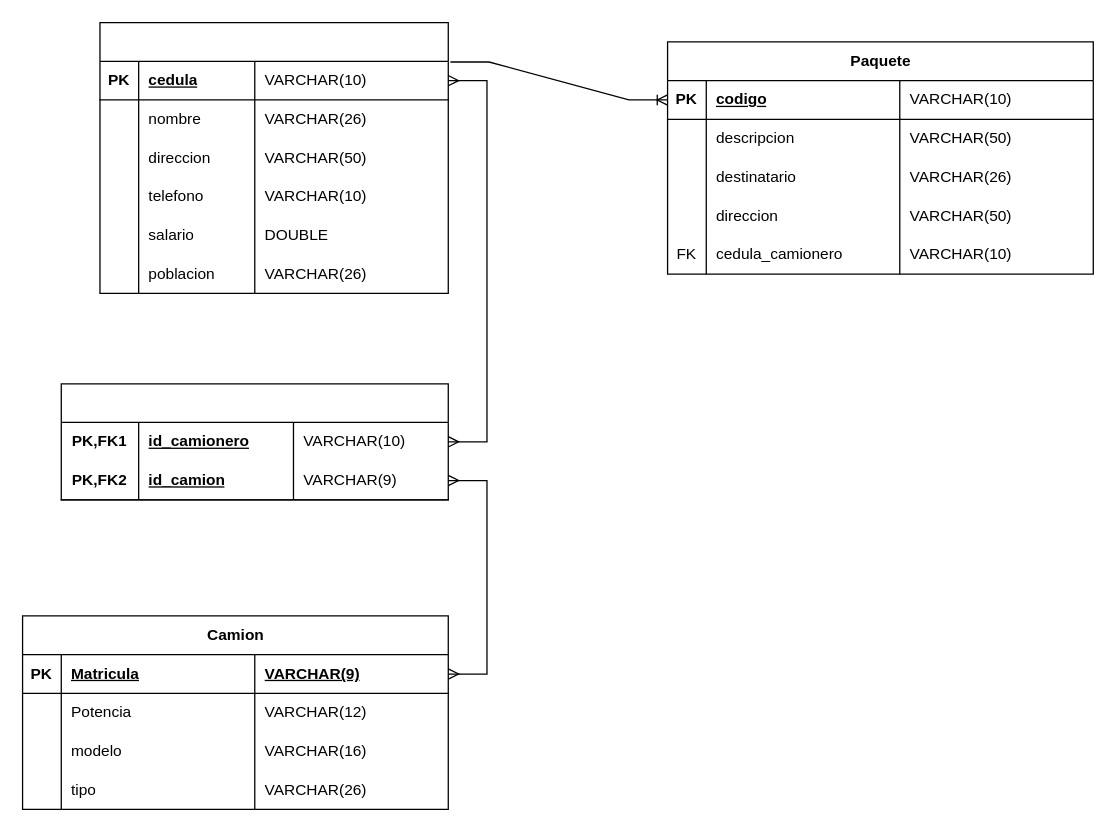
Image size: 1116x832. Some labels were removed from this diagram. Each missing label, with the box of its shape:
Camionero: (99, 21, 448, 293)
camionero_camion: (60, 382, 448, 500)
